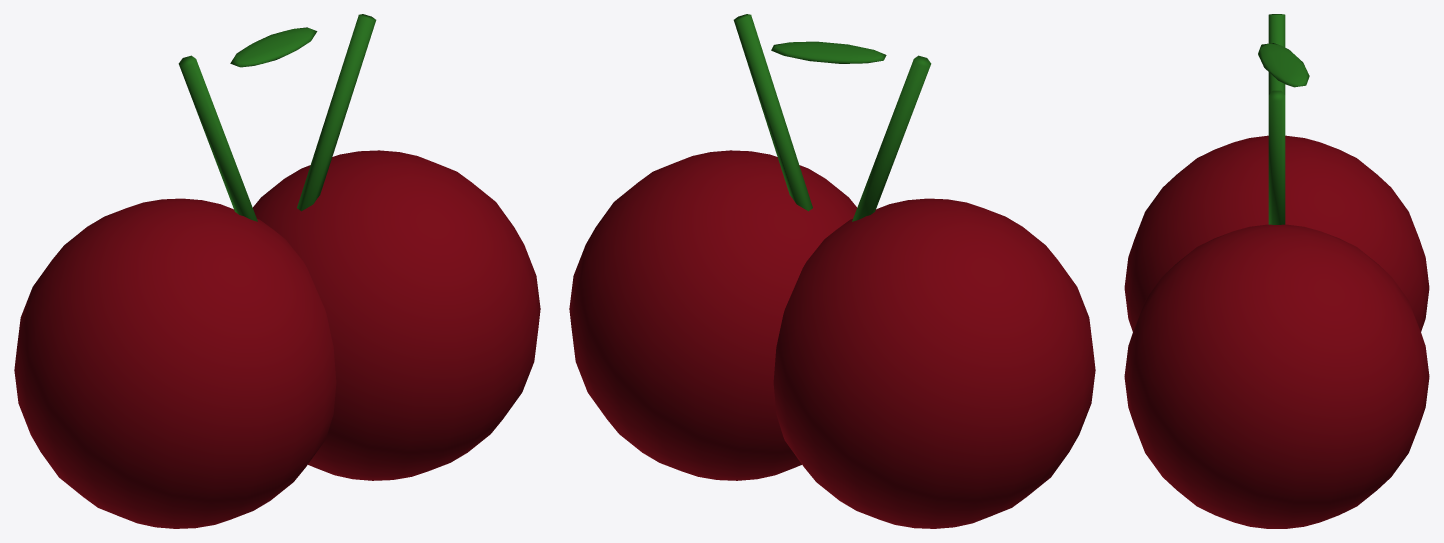
File: cherry.fbx
The picture shows the model from 3 angles, left to right: view 1: azimuth 30°, elevation 25°; view 2: azimuth 150°, elevation 25°; view 3: azimuth 270°, elevation 25°; orthographic projection. The views are drawn at different scales.
Parts seen in each view (by area): view 1: cherry; view 2: cherry; view 3: cherry.
Boxes of the visible parts, left/top/right/bottom form: cherry: left=14, top=14, right=540, bottom=528; cherry: left=569, top=14, right=1095, bottom=528; cherry: left=1124, top=14, right=1429, bottom=528.
Size of the model in its own units: 100 by 90 by 59.57.
Materials: 1 (1 with a texture image).
